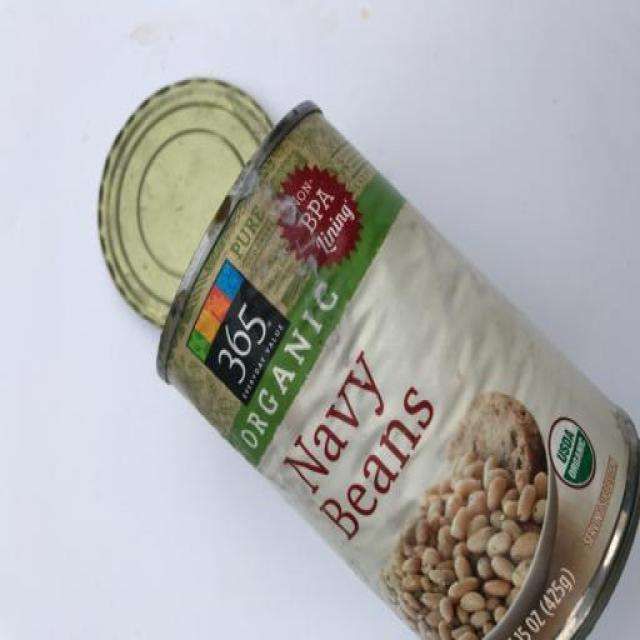metel: (78, 59, 640, 640)
